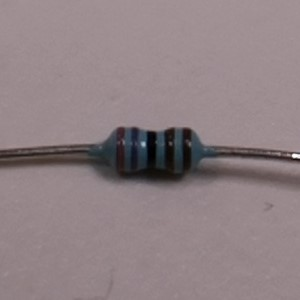black_band: (144, 127, 159, 174)
brown_band: (163, 124, 176, 176), (180, 124, 193, 174)
red_band: (115, 124, 127, 176)
violet_band: (128, 125, 142, 174)
